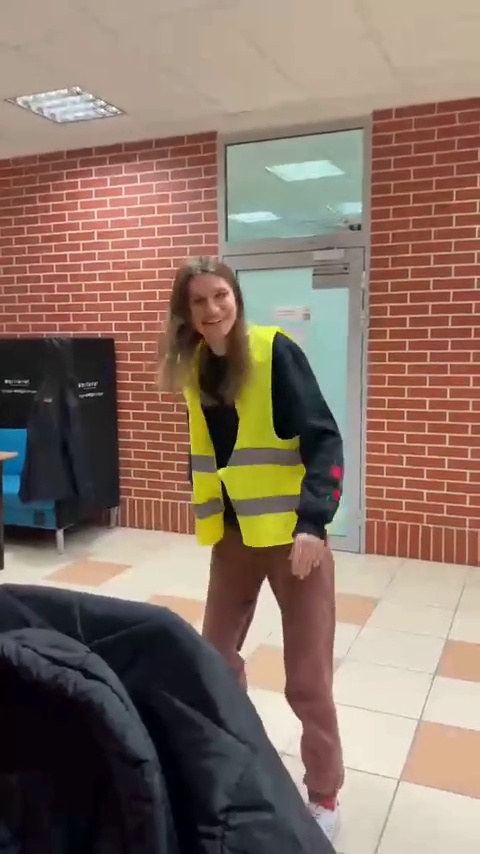vest: (154, 261, 368, 848)
